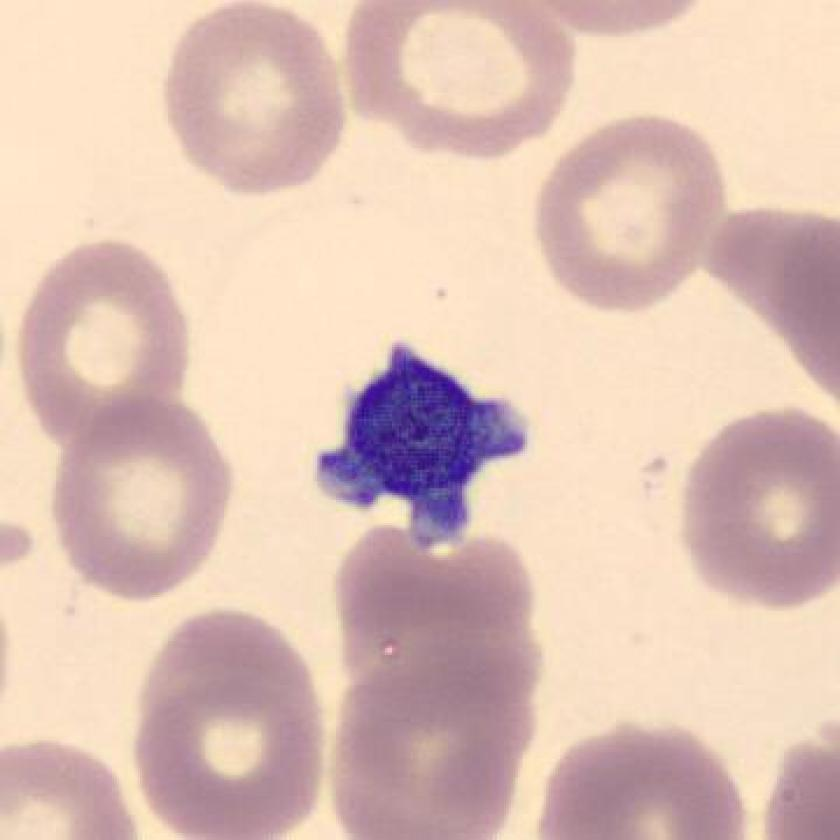platelets: (314, 337, 533, 557)
